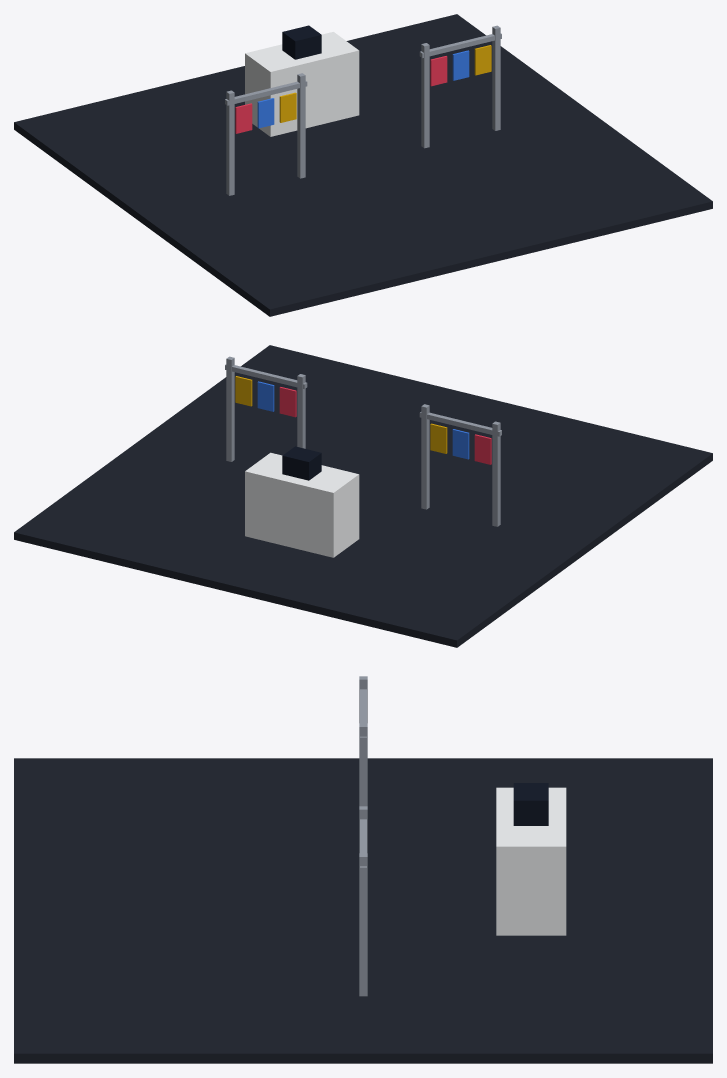
The model's file is shopping.glb.
3 renders of one model, top to bottom at view 1: azimuth 30°, elevation 25°; view 2: azimuth 150°, elevation 25°; view 3: azimuth 270°, elevation 25°, orthographic. The views are drawn at different scales.
Bounding box in the file's own units: 5 × 1.18 × 5.
